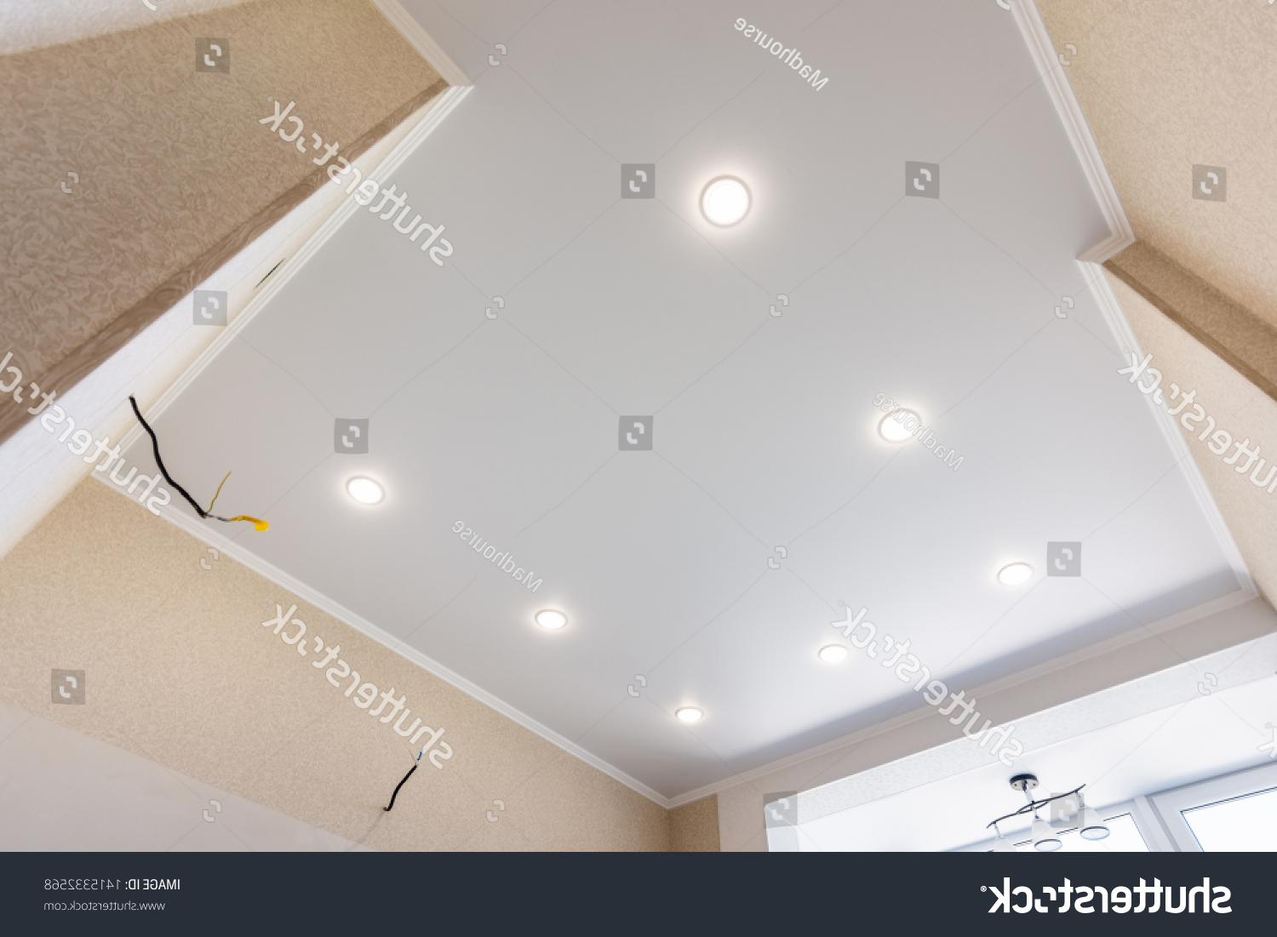light: (969, 756, 1110, 862), (692, 165, 757, 236), (872, 394, 928, 452), (990, 550, 1047, 602), (334, 470, 390, 514), (522, 603, 575, 641), (659, 698, 713, 735), (805, 637, 851, 677)
